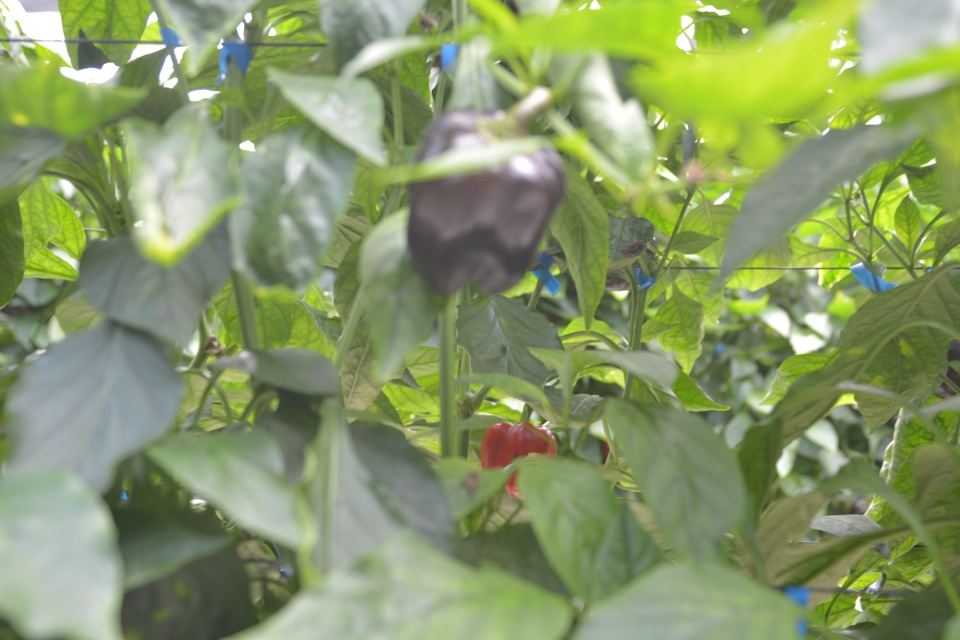flower: (848, 194, 870, 209)
fruit: (403, 105, 568, 300), (479, 421, 559, 501), (603, 235, 658, 292), (932, 337, 960, 399)
